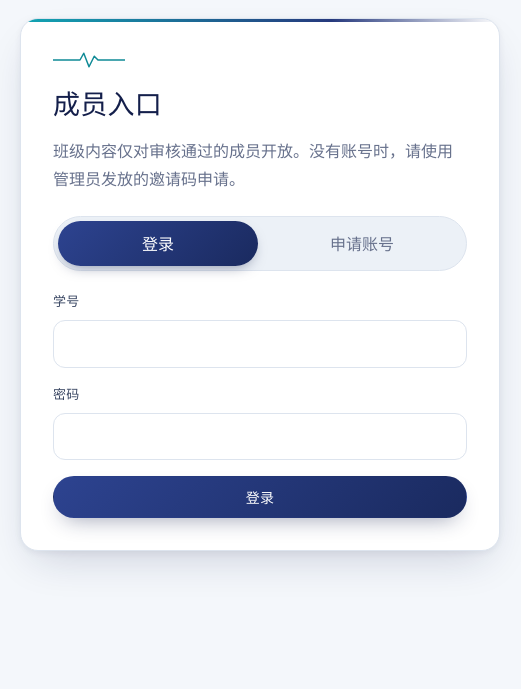
it: LoginView › keeps the success message after registration switches back to login mode
The image size is (521, 689).
Click the tab "申请账号" at [362, 244], box [262,221,462,266]
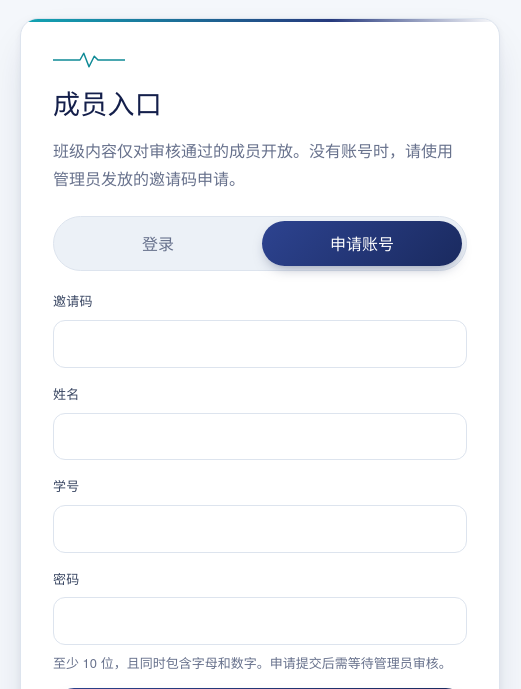
Type "INVITE-CODE" into the field with id "invite" at [260, 344], box [53,320,467,368]
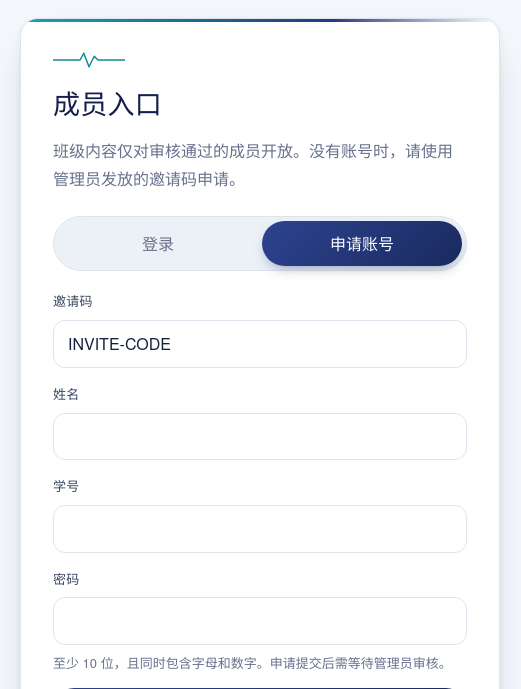
Type "测试成员" into the field with id "name" at [260, 436], box [53,413,467,460]
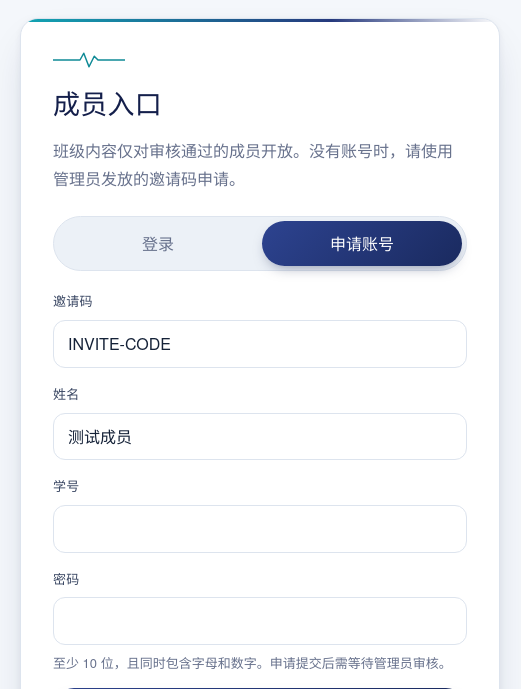
Type "2510305301" into the field with id "student-number" at [260, 529], box [53,505,467,553]
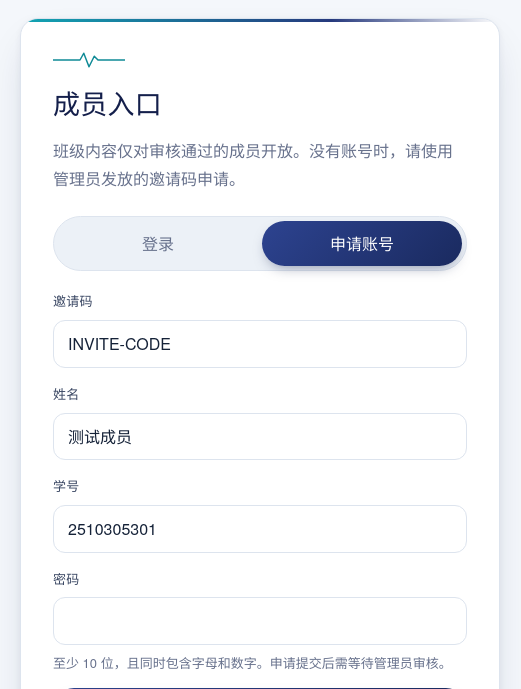
Type "password123" into the password field labelled "密码" at [260, 621], box [53,597,467,645]
(page scrolled)
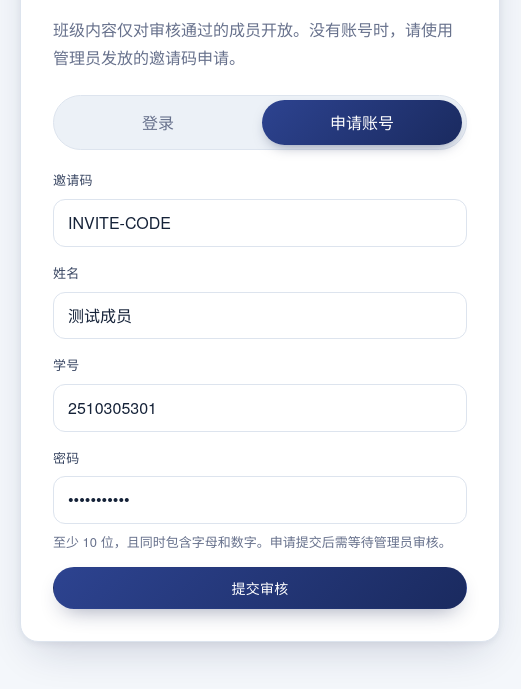
Submit the form, box [53,170,467,610]
(page scrolled)
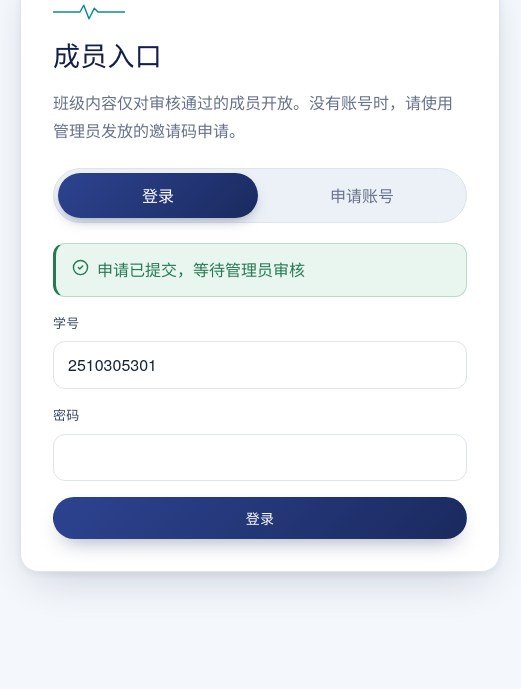
Expected: the message with class "success" reads "申请已提交，等待管理员审核", [97,258,305,281]
